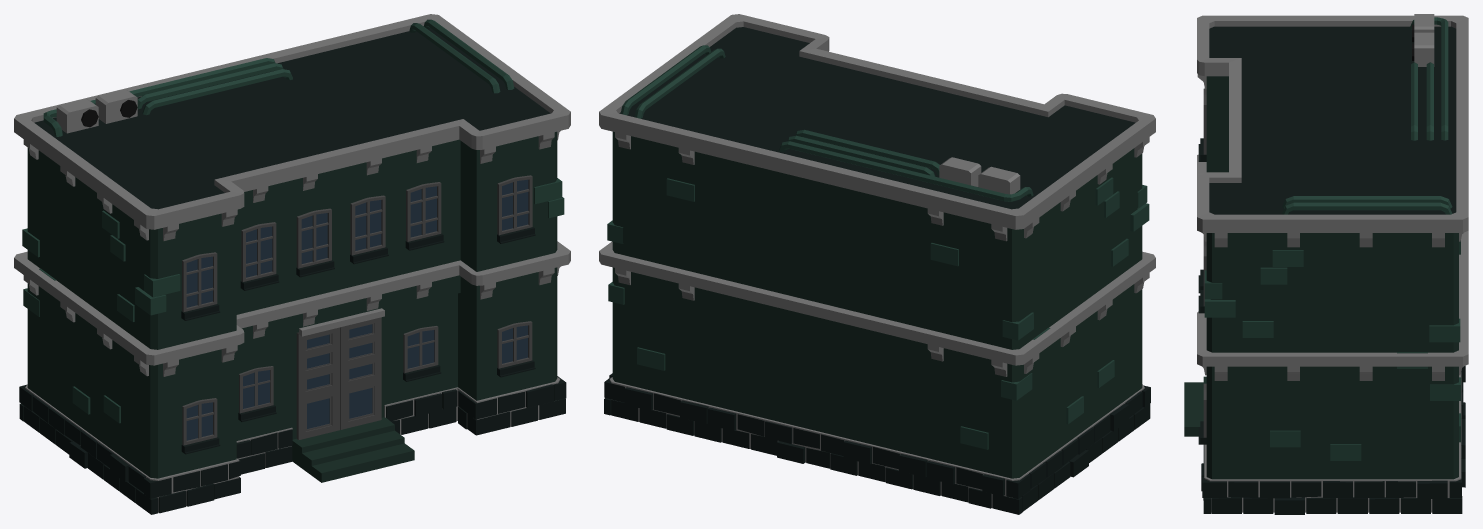
The model's file is 2Story_Wide.obj.
3 renders of one model, left to right at view 1: azimuth 30°, elevation 25°; view 2: azimuth 150°, elevation 25°; view 3: azimuth 270°, elevation 25°, orthographic.
Visible parts, largest first — view 1: 2Story_Wide_Mat_Cube.019; view 2: 2Story_Wide_Mat_Cube.019; view 3: 2Story_Wide_Mat_Cube.019.
Part boxes in pixels (box(x1,y1,x2,y2)): 2Story_Wide_Mat_Cube.019: box(14, 14, 570, 514); 2Story_Wide_Mat_Cube.019: box(599, 14, 1155, 514); 2Story_Wide_Mat_Cube.019: box(1184, 14, 1468, 514).
Size of the model in its own units: 3.83 by 2.75 by 2.26.
